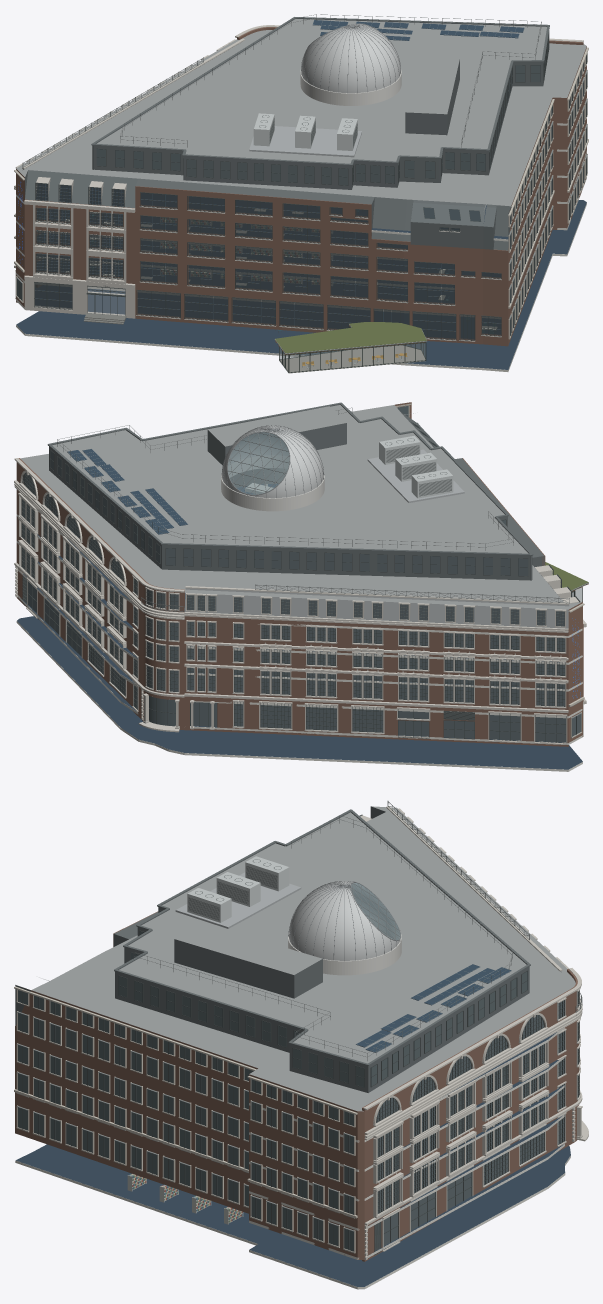
Rendered from lrb-exterior-823377ba7343.glb.
3 renders of one model, top to bottom at view 1: azimuth 30°, elevation 25°; view 2: azimuth 150°, elevation 25°; view 3: azimuth 270°, elevation 25°, orthographic. The views are drawn at different scales.
Parts seen in each view (by area): view 1: LRB.001; view 2: LRB.001; view 3: LRB.001.
Boxes of the visible parts, bbox=[...] form: LRB.001: bbox=[14, 14, 588, 373]; LRB.001: bbox=[14, 402, 588, 771]; LRB.001: bbox=[14, 801, 588, 1289].
Bounding box in the file's own units: 89.65 × 36.89 × 70.94.
